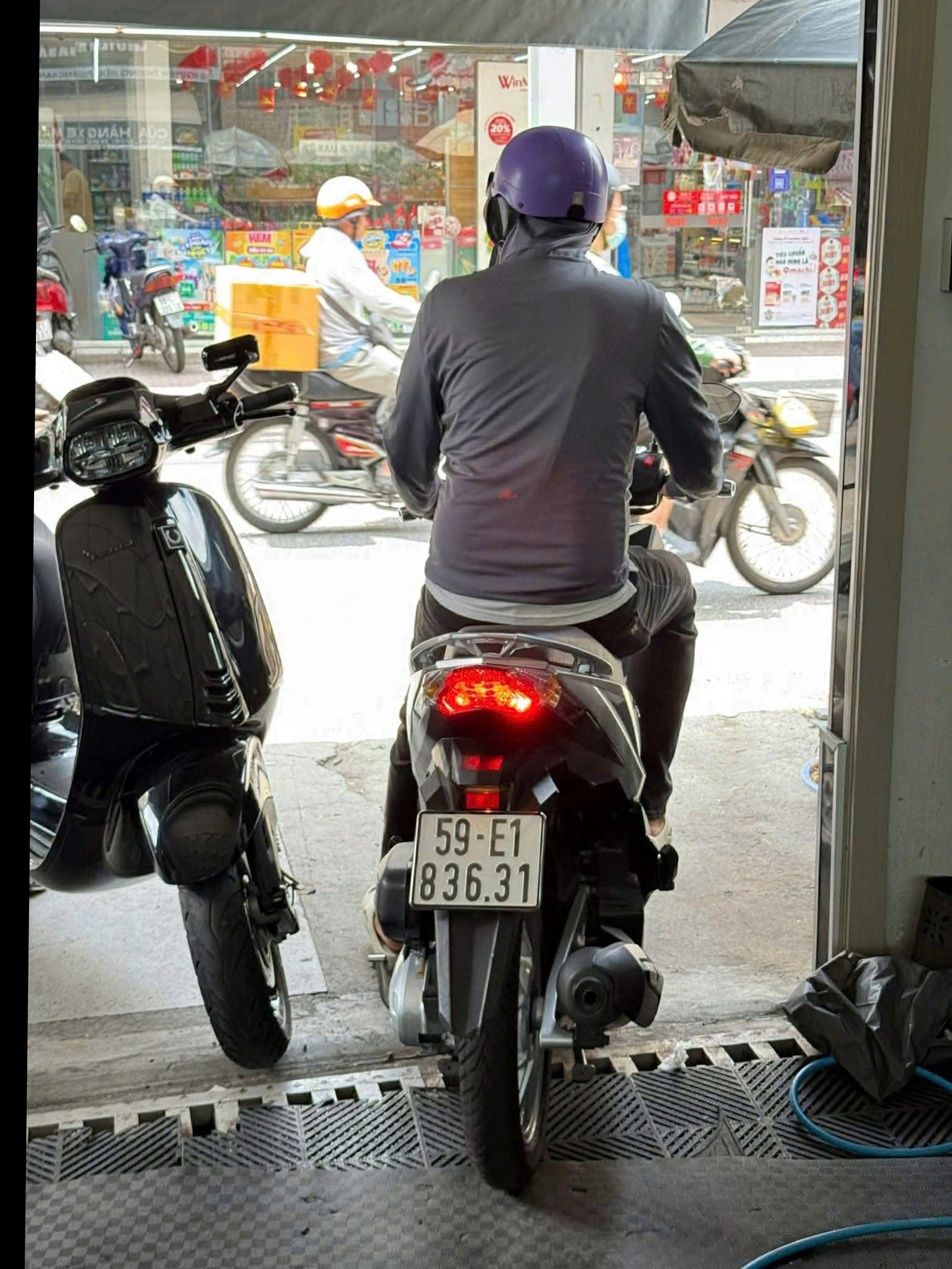Bien-so: (382, 789, 527, 899)
